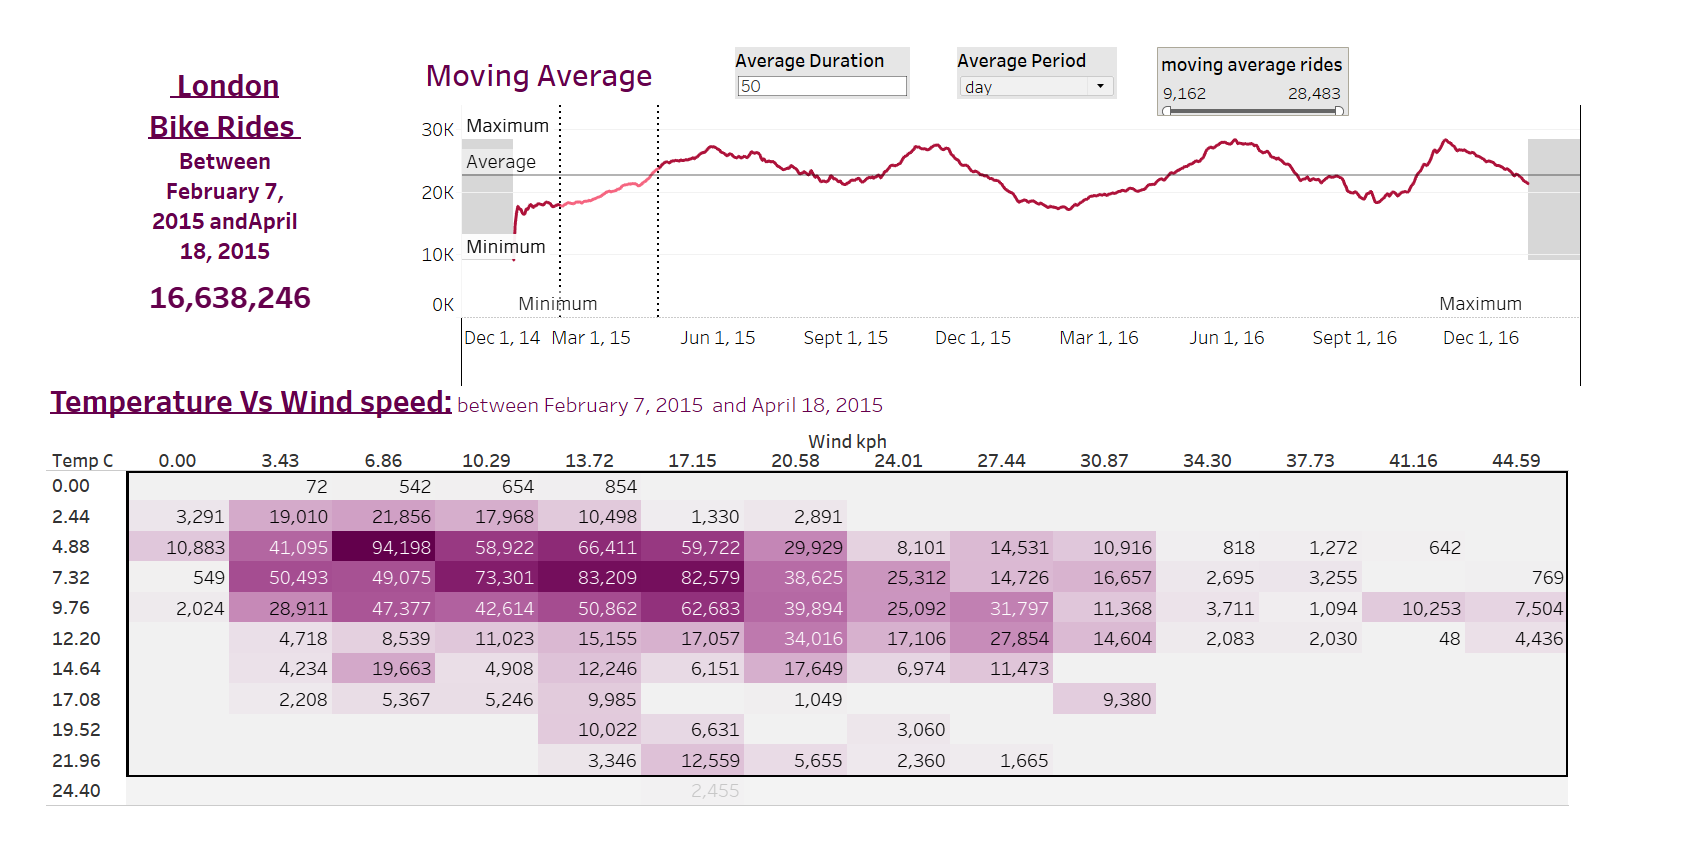

The dashboard page shown, as its layout file describes it:
{"tool":"tableau","page":{"name":"Dashboard 1","canvas":[1600,800],"ordinal":0},"visuals":[{"type":"parameter","param":"[Parameters].[Parameter 2]","box":[692,14,175,52]},{"type":"parameter","param":"[Parameters].[Parameter 1]","box":[914,14,160,52]},{"type":"filter","title":"MovingAverage","param":"[federated.0ehka7a10nm3p819cgbp0077g6ei].[usr:Calculation1:qk]","box":[1114,14,192,69]},{"type":"worksheet","title":"MovingAverage","mark":"Automatic","rows":["Calculation1"],"cols":["Calculation_1614540507621621760"],"box":[378,16,1160,338]},{"type":"worksheet","title":"Bike Rides","mark":"Text","box":[92,26,250,290]},{"type":"worksheet","title":"Sheet 3","mark":"Square","rows":["temp real C (bin)"],"cols":["Wind Speed Kph (bin)"],"box":[3,342,1523,431]}]}

Visuals, with their boxes in screenshot pixels (x1, y1, x2, y2), scaled from the page's 1600x800 canvas onto the 1697x864 screenshot:
parameter: box=[734, 15, 920, 71]
parameter: box=[969, 15, 1139, 71]
"MovingAverage" filter: box=[1182, 15, 1385, 90]
"MovingAverage" worksheet: box=[401, 17, 1631, 382]
"Bike Rides" worksheet (Text marks): box=[98, 28, 363, 341]
"Sheet 3" worksheet (Square marks): box=[3, 369, 1619, 835]
